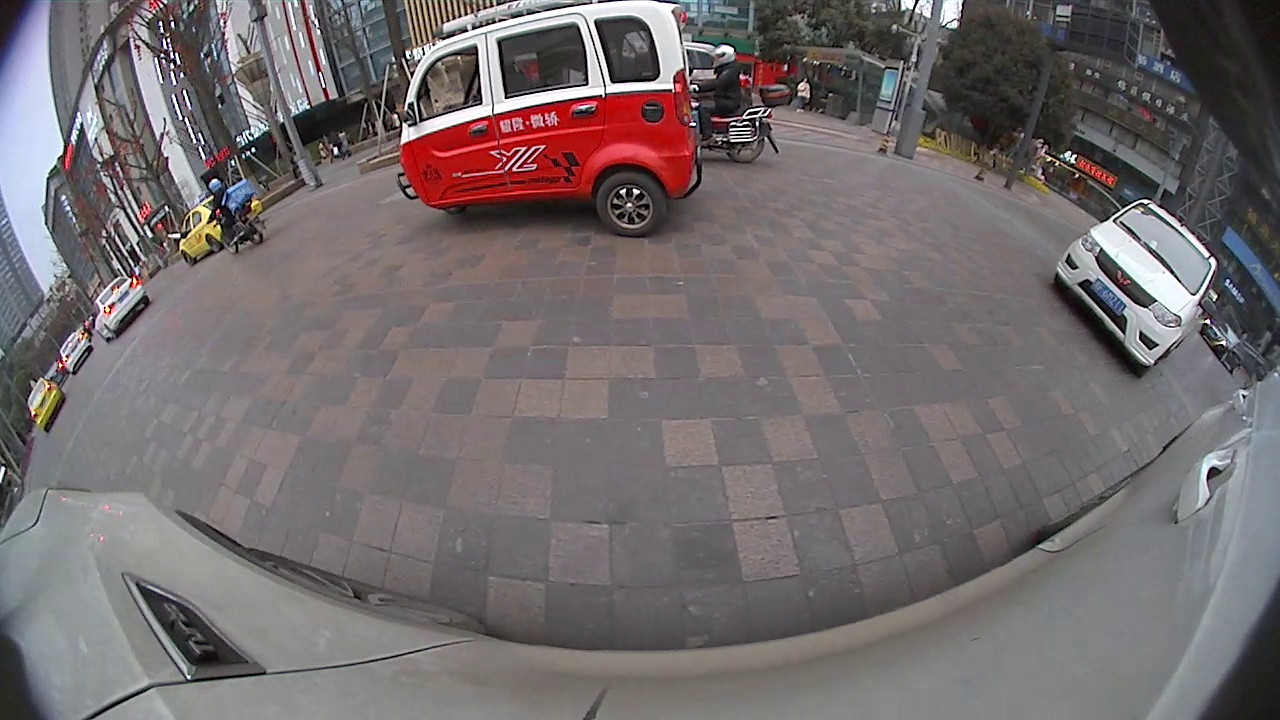car: (1052, 196, 1221, 381), (177, 197, 240, 267), (91, 274, 151, 344), (27, 374, 67, 433), (57, 328, 95, 377)
rear: (592, 173, 669, 241), (724, 132, 771, 163)
rider: (388, 1, 702, 239), (688, 45, 794, 165), (204, 176, 265, 257)
